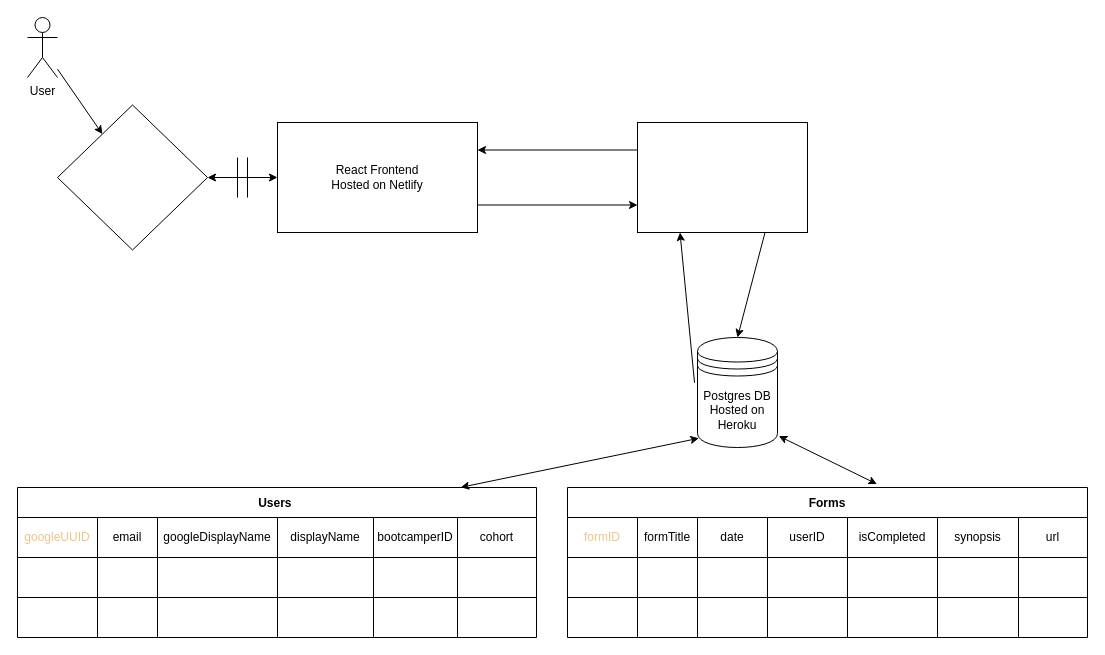
Image size: 1105x655. Some labels were removed from this diagram. The centre of each missing label's shape, as x and y in pixels:
Express Backend server Hosted on Heroku: [722,177]
Firebase Authentication: [132,177]
